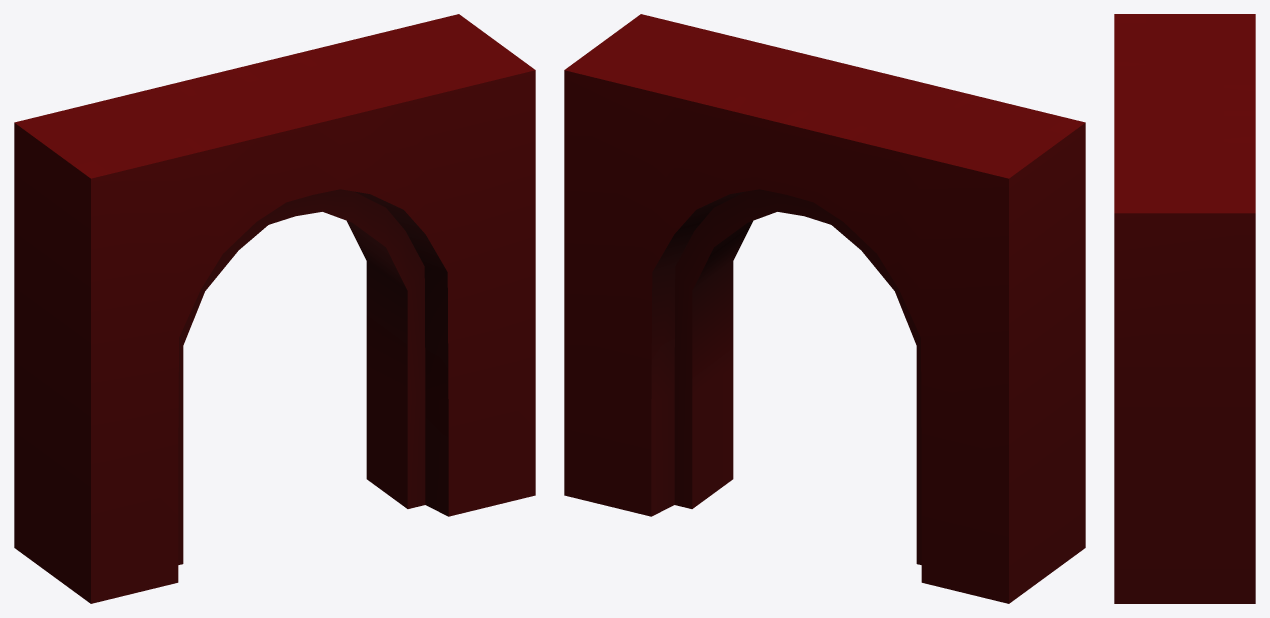
File: buildings-ruins-castleruins_v6.fbx
3 renders of one model, left to right at view 1: azimuth 30°, elevation 25°; view 2: azimuth 150°, elevation 25°; view 3: azimuth 270°, elevation 25°, orthographic. The views are drawn at different scales.
Visible parts, largest first — view 1: CastleRuins_v6; view 2: CastleRuins_v6; view 3: CastleRuins_v6.
Part boxes in pixels (left/top/right/bottom): CastleRuins_v6: left=14, top=14, right=535, bottom=603; CastleRuins_v6: left=564, top=14, right=1085, bottom=603; CastleRuins_v6: left=1114, top=14, right=1255, bottom=603.
Bounding box in the file's own units: 15.02 × 13.72 × 4.49.
